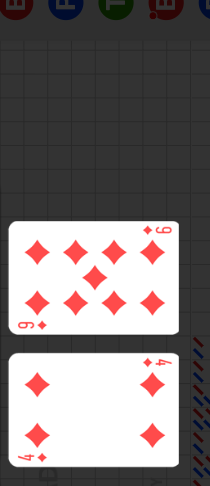9D: (141, 224, 174, 236), (17, 319, 49, 331)
